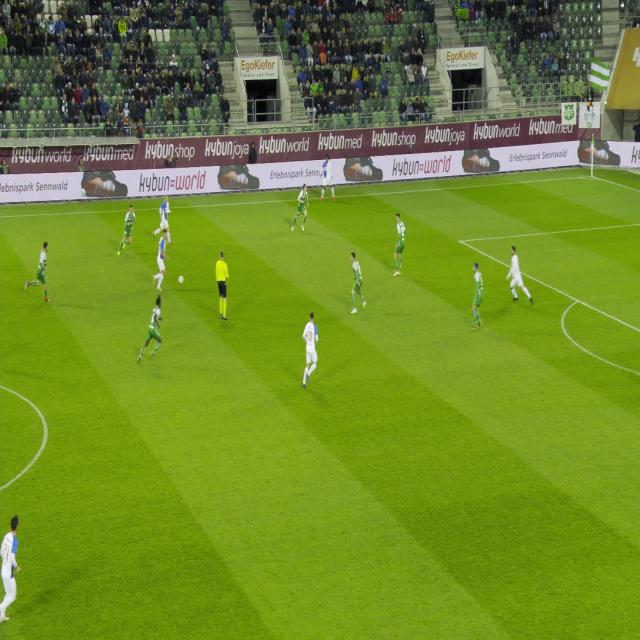Ball: (175, 270, 188, 288)
Player: (293, 300, 329, 398), (0, 511, 29, 621), (133, 294, 175, 368), (23, 226, 58, 314), (340, 244, 374, 320), (499, 241, 538, 307), (112, 200, 144, 262), (147, 230, 176, 296), (466, 258, 488, 334), (151, 192, 175, 254), (289, 184, 314, 239), (392, 210, 408, 279), (318, 150, 336, 203)
Referee: (213, 241, 236, 337)
